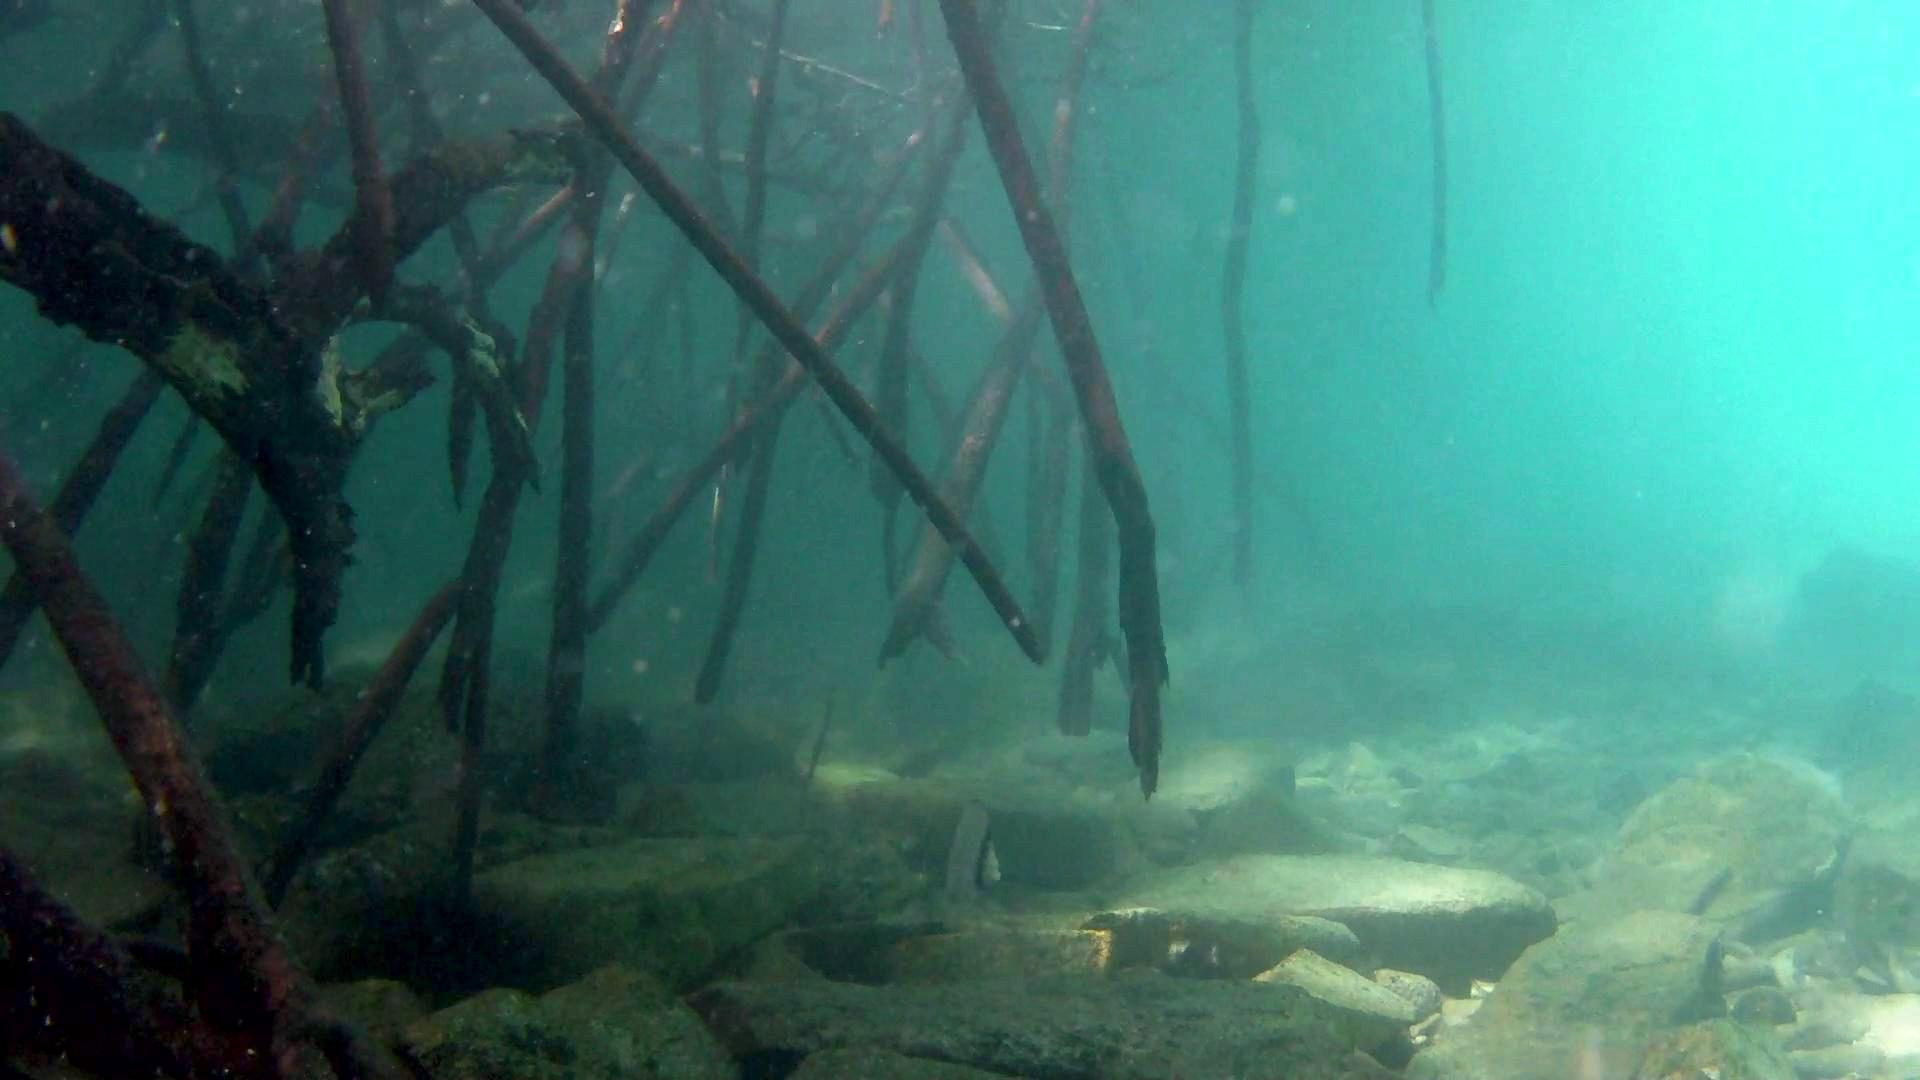chaetodon vagabundus: (938, 794, 1006, 910)
